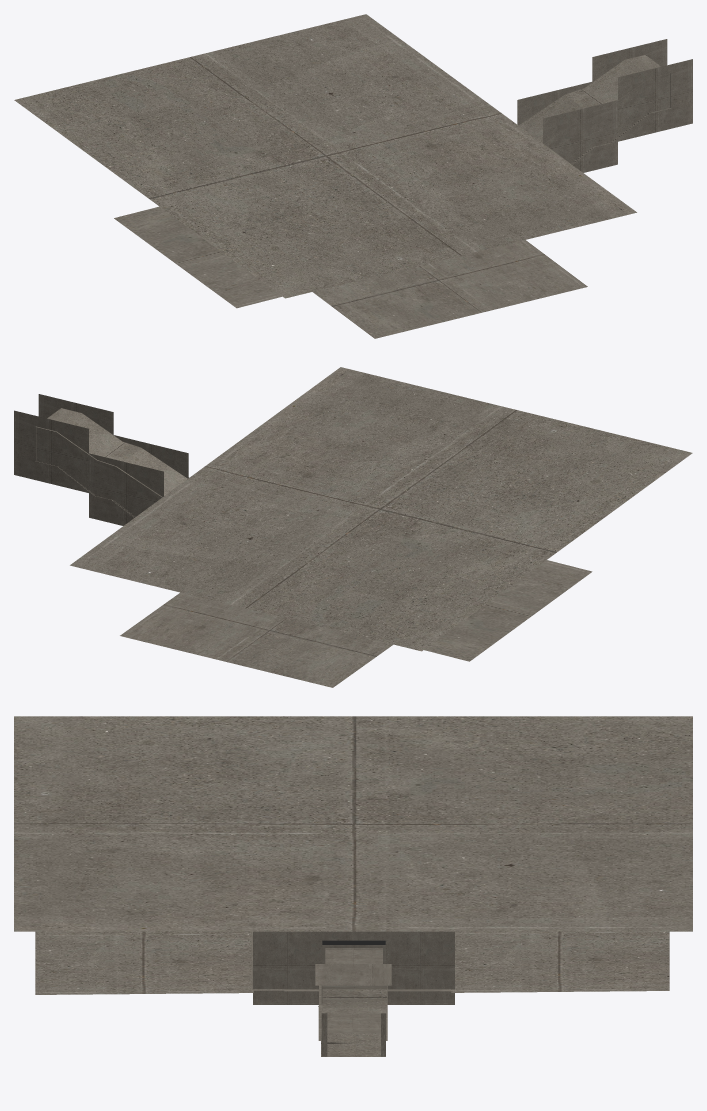
File: 3drop_gallery_v106.glb
3 renders of one model, top to bottom at view 1: azimuth 30°, elevation 25°; view 2: azimuth 150°, elevation 25°; view 3: azimuth 270°, elevation 25°, orthographic. The views are drawn at different scales.
Visible parts, largest first — view 1: frameConcreteExternalTop, sideLeftPlateformConcrete_grndPhys, demoZoneSurroundingPlanes, backPlateformConcrete_grndPhys, entranceBackCeiling; view 2: frameConcreteExternalTop, sideRightPlateformConcrete_grndPhys, demoZoneSurroundingPlanes, backPlateformConcrete_grndPhys, entranceBackCeiling; view 3: frameConcreteExternalTop, sideLeftPlateformConcrete_grndPhys, sideRightPlateformConcrete_grndPhys, demoZoneSurroundingPlanes, entranceBackCeiling, entranceBackStairs, entrancePlateform_grndPhys, entranceLobbyConcrete, frameConcreteExternal.
Boxes of the visible parts, x1,y1,x2,y2 form: frameConcreteExternalTop: (14,14,636,298); sideLeftPlateformConcrete_grndPhys: (313,240,587,338); demoZoneSurroundingPlanes: (517,39,692,172); backPlateformConcrete_grndPhys: (114,206,281,308); entranceBackCeiling: (519,55,661,143); frameConcreteExternalTop: (70,367,692,651); sideRightPlateformConcrete_grndPhys: (120,592,393,687); demoZoneSurroundingPlanes: (14,394,188,525); backPlateformConcrete_grndPhys: (424,560,592,661); entranceBackCeiling: (36,408,187,497); frameConcreteExternalTop: (14,716,692,931); sideLeftPlateformConcrete_grndPhys: (35,931,253,994); sideRightPlateformConcrete_grndPhys: (451,931,669,992); demoZoneSurroundingPlanes: (253,931,454,1004); entranceBackCeiling: (315,964,391,1013); entranceBackStairs: (321,1013,385,1056); entrancePlateform_grndPhys: (318,985,387,1040); entranceLobbyConcrete: (321,945,385,1003); frameConcreteExternal: (322,931,385,940).
Bounding box in the file's own units: 283 × 52.48 × 250.
Materials: 4 (4 with a texture image).
